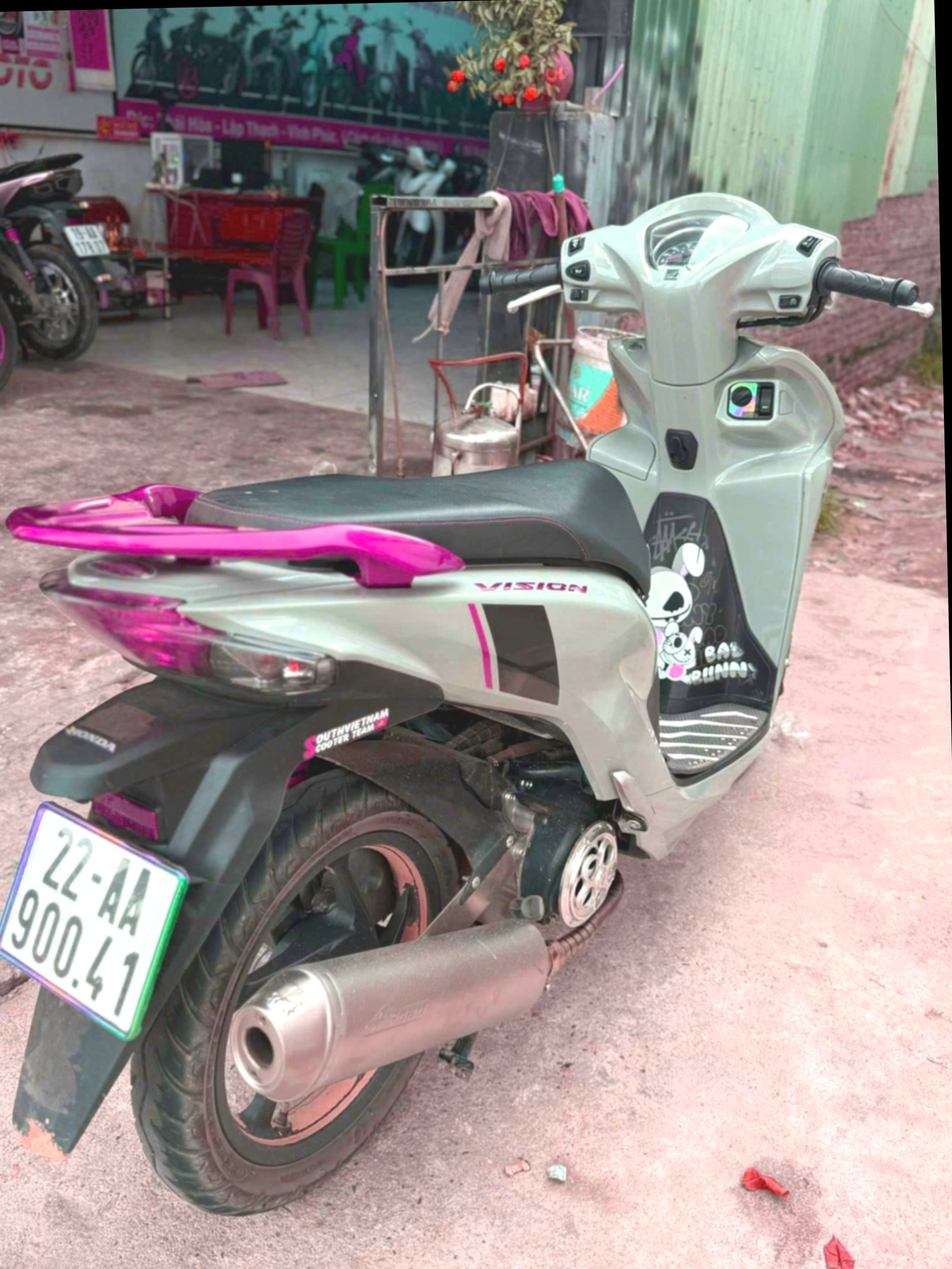Bien-so: (0, 798, 186, 1040)
